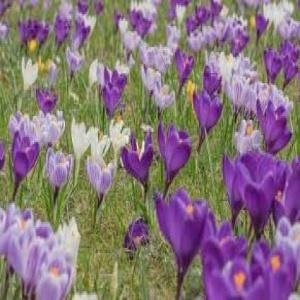Saffron: (152, 190, 206, 281), (7, 222, 49, 298), (239, 168, 277, 238), (158, 124, 192, 184), (120, 134, 155, 185), (87, 154, 119, 204), (12, 130, 39, 189), (191, 89, 222, 140), (47, 148, 71, 199), (70, 116, 96, 160), (176, 50, 194, 85), (22, 53, 39, 89), (102, 85, 121, 117), (155, 85, 174, 113), (65, 48, 84, 74), (255, 13, 268, 39)
